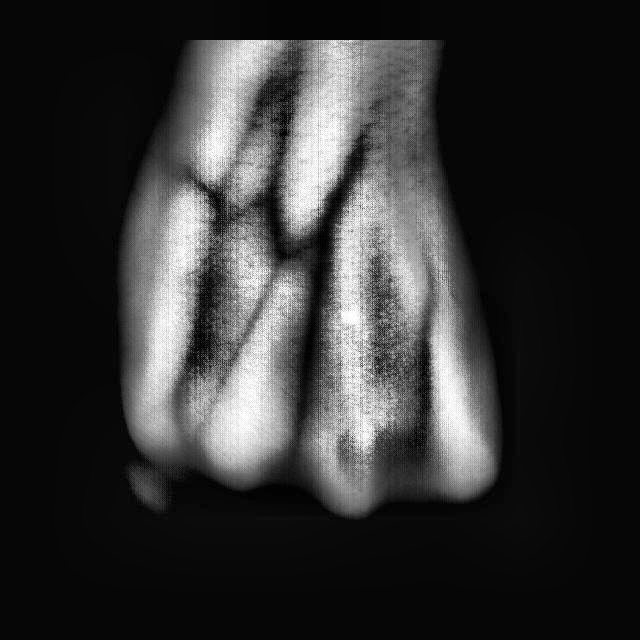Vein: (300, 173, 358, 344), (263, 40, 308, 185)
